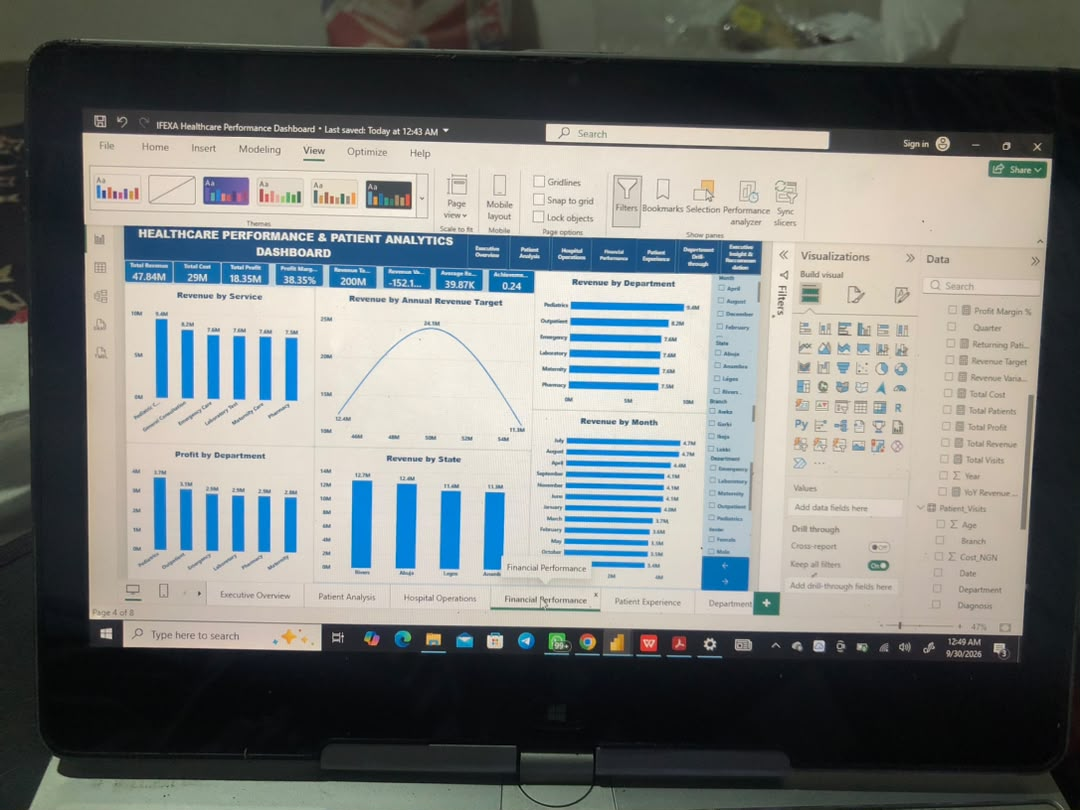

Layout of this report page (visuals, bound fields, positions):
{"tool":"powerbi","page":{"name":"Financial Performance","canvas":[1920,1080],"ordinal":3},"visuals":[{"type":"clusteredColumnChart","title":"Revenue by State","fields":{"Category":["Patient_Visits.State"],"Y":["Date_Table.Total Revenue"]},"box":[571.9,654.8,661.2,420.9],"z":0},{"type":"clusteredBarChart","title":"Revenue by Department","fields":{"Category":["Patient_Visits.Department"],"Y":["Date_Table.Total Revenue"]},"box":[1235,102.5,537.5,425],"z":1000},{"type":"clusteredColumnChart","title":"Revenue by Service","fields":{"Category":["Patient_Visits.Service"],"Y":["Date_Table.Total Revenue"]},"box":[0,172.2,571.9,482.6],"z":2000},{"type":"clusteredColumnChart","title":"Profit by Department","fields":{"Category":["Patient_Visits.Department"],"Y":["Date_Table.Total Profit"]},"box":[0,654.8,571.9,425.2],"z":3000},{"type":"clusteredBarChart","title":"Revenue by Month","fields":{"Category":["Date_Table.Month"],"Y":["Date_Table.Total Revenue"]},"box":[1235,527.5,537.5,547.5],"z":4000},{"type":"lineChart","title":"Revenue by Annual Revenue Target","fields":{"Category":["State_Targets.Annual_Revenue_Target_NGN"],"Y":["Date_Table.Total Revenue"]},"box":[571.9,170.1,663.3,484.7],"z":5000},{"type":"slicer","fields":{"Values":["Patient_Visits.State"]},"box":[1783,300,136.2,178.7],"z":6000},{"type":"slicer","fields":{"Values":["Date_Table.Month"]},"box":[1785,102.5,135,192.5],"z":7000},{"type":"slicer","fields":{"Values":["Patient_Visits.Branch"]},"box":[1773.1,478.3,146.7,176.5],"z":8000},{"type":"slicer","fields":{"Values":["Patient_Visits.Department"]},"box":[1780.9,655.3,138.3,208.5],"z":9000},{"type":"slicer","fields":{"Values":["Patient_Visits.Gender"]},"box":[1783,880.9,127.7,108.5],"z":10000},{"type":"actionButton","box":[1773.1,1020.5,146.7,59.5],"z":11000},{"type":"pageNavigator","box":[1027.5,0,892.5,102.5],"z":12000},{"type":"textbox","box":[0,0,1027.5,102.5],"z":13000},{"type":"cardVisual","fields":{"Data":["Date_Table.Total Cost"]},"box":[147.5,102.5,145,67.5],"z":14000},{"type":"cardVisual","fields":{"Data":["Date_Table.Total Revenue"]},"box":[0,102.5,147.5,67.5],"z":15000},{"type":"cardVisual","fields":{"Data":["Date_Table.Total Profit"]},"box":[292.5,102.5,145,67.5],"z":16000},{"type":"cardVisual","fields":{"Data":["Date_Table.Profit Margin %"]},"box":[452.5,102.5,145,67.5],"z":17000},{"type":"cardVisual","fields":{"Data":["Date_Table.Revenue Target"]},"box":[612.5,102.5,145,70],"z":18000},{"type":"cardVisual","fields":{"Data":["Date_Table.Average Revenue Per Patient"]},"box":[932.5,102.5,145,67.5],"z":19000},{"type":"cardVisual","fields":{"Data":["Date_Table.Achievement %"]},"box":[1092.5,102.5,142.4,70.2],"z":20000},{"type":"cardVisual","fields":{"Data":["Date_Table.Revenue Variance"]},"box":[775,102.5,145,67.5],"z":21000},{"type":"actionButton","box":[1773.1,971.6,146.7,57.4],"z":22000}]}

Visuals, with their boxes on the page's 1920x1080 design canvas (x1, y1, x2, y2). These are canvas units, not pixel positions in the 1080x810 screenshot, which may show the page scaled, cropped or inside an application window:
"Revenue by State" clusteredColumnChart: (x1=572, y1=655, x2=1233, y2=1076)
"Revenue by Department" clusteredBarChart: (x1=1235, y1=102, x2=1772, y2=528)
"Revenue by Service" clusteredColumnChart: (x1=0, y1=172, x2=572, y2=655)
"Profit by Department" clusteredColumnChart: (x1=0, y1=655, x2=572, y2=1080)
"Revenue by Month" clusteredBarChart: (x1=1235, y1=528, x2=1772, y2=1075)
"Revenue by Annual Revenue Target" lineChart: (x1=572, y1=170, x2=1235, y2=655)
slicer - Patient_Visits.State: (x1=1783, y1=300, x2=1919, y2=479)
slicer - Date_Table.Month: (x1=1785, y1=102, x2=1920, y2=295)
slicer - Patient_Visits.Branch: (x1=1773, y1=478, x2=1920, y2=655)
slicer - Patient_Visits.Department: (x1=1781, y1=655, x2=1919, y2=864)
slicer - Patient_Visits.Gender: (x1=1783, y1=881, x2=1911, y2=989)
actionButton: (x1=1773, y1=1020, x2=1920, y2=1080)
pageNavigator: (x1=1028, y1=0, x2=1920, y2=102)
textbox: (x1=0, y1=0, x2=1028, y2=102)
cardVisual - Date_Table.Total Cost: (x1=148, y1=102, x2=292, y2=170)
cardVisual - Date_Table.Total Revenue: (x1=0, y1=102, x2=148, y2=170)
cardVisual - Date_Table.Total Profit: (x1=292, y1=102, x2=438, y2=170)
cardVisual - Date_Table.Profit Margin %: (x1=452, y1=102, x2=598, y2=170)
cardVisual - Date_Table.Revenue Target: (x1=612, y1=102, x2=758, y2=172)
cardVisual - Date_Table.Average Revenue Per Patient: (x1=932, y1=102, x2=1078, y2=170)
cardVisual - Date_Table.Achievement %: (x1=1092, y1=102, x2=1235, y2=173)
cardVisual - Date_Table.Revenue Variance: (x1=775, y1=102, x2=920, y2=170)
actionButton: (x1=1773, y1=972, x2=1920, y2=1029)
